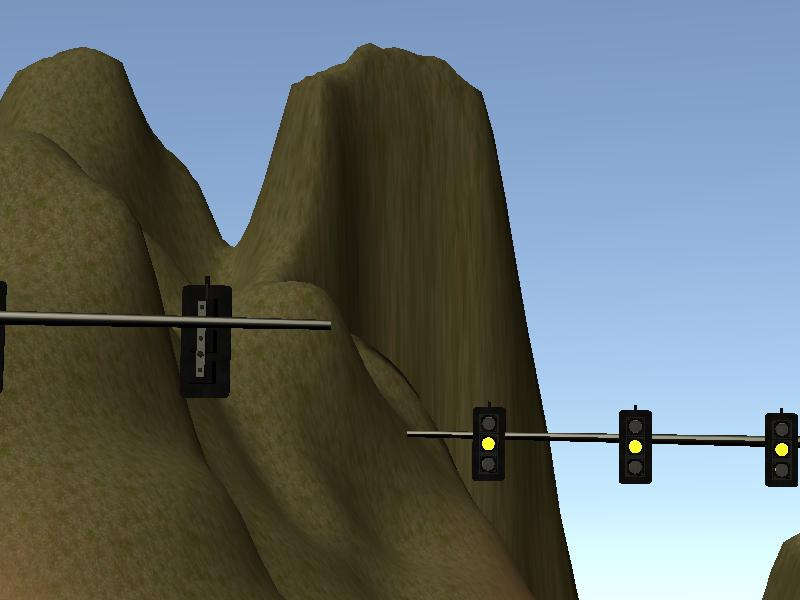yellow_light: (765, 413, 797, 486), (473, 409, 504, 480), (622, 413, 652, 481)
